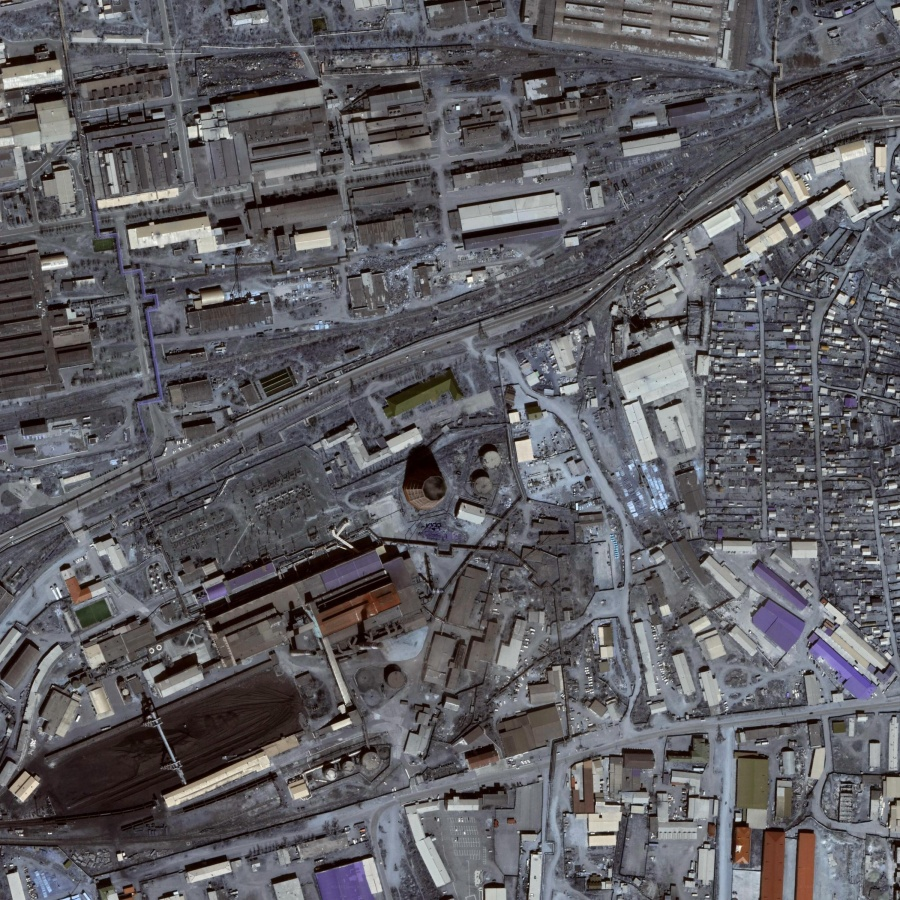PowerPlant: (29, 444, 510, 826)
